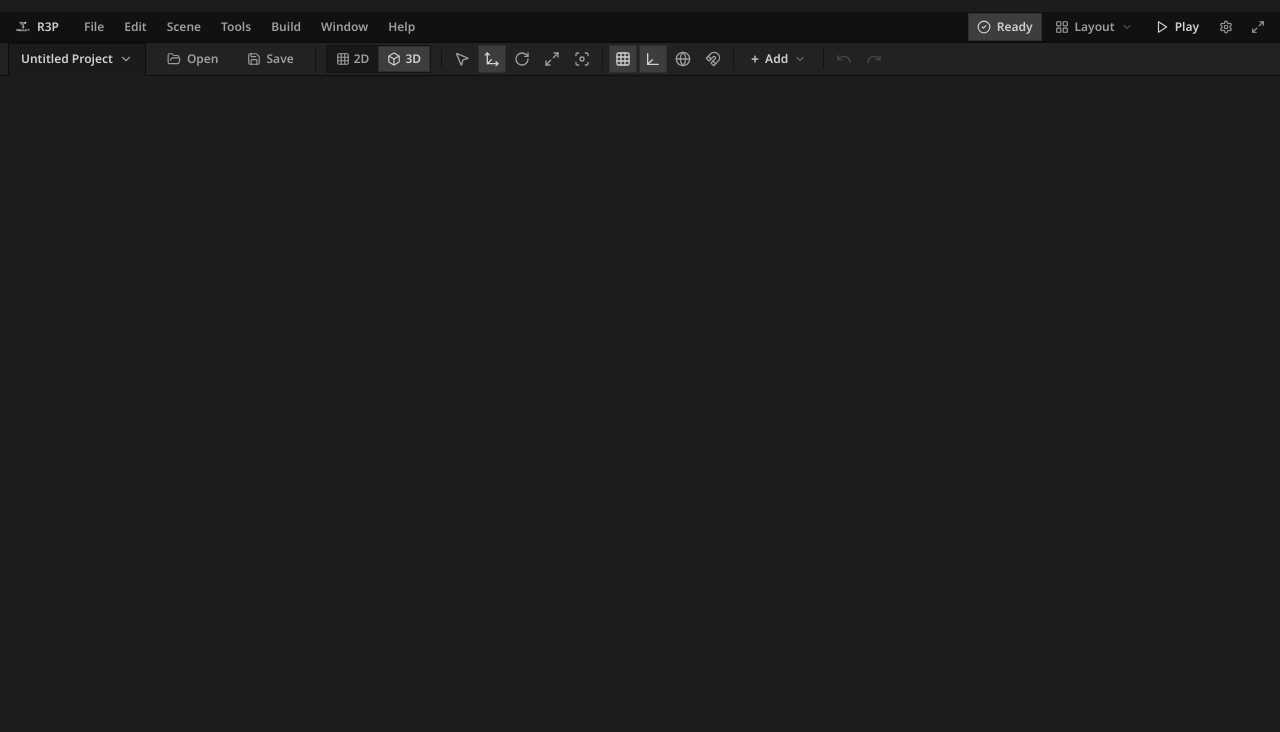
EditorHeader layout selector › uses the dock viewport name in the 3D Window menu
Click the button "Window": (345, 26) x1=311 y1=12 x2=378 y2=41
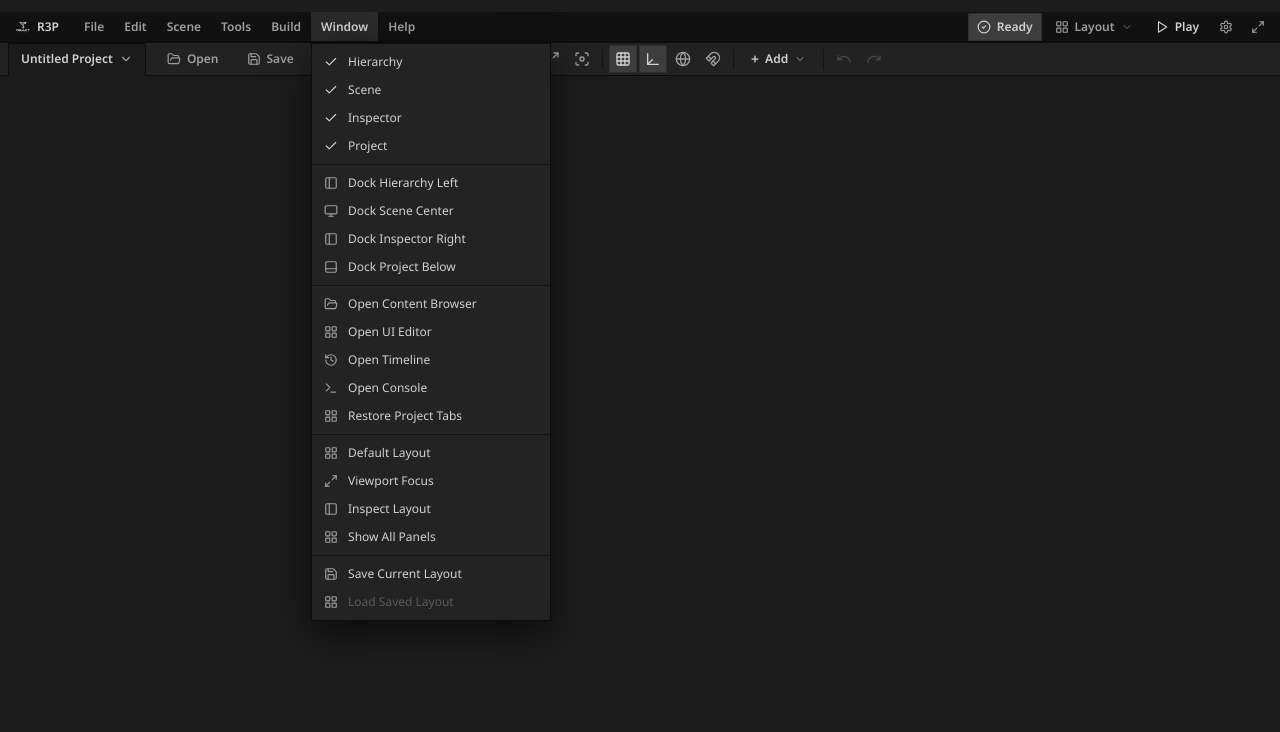
Check: the button "Dock Scene Center" is shown, box x1=312 y1=197 x2=550 y2=225
